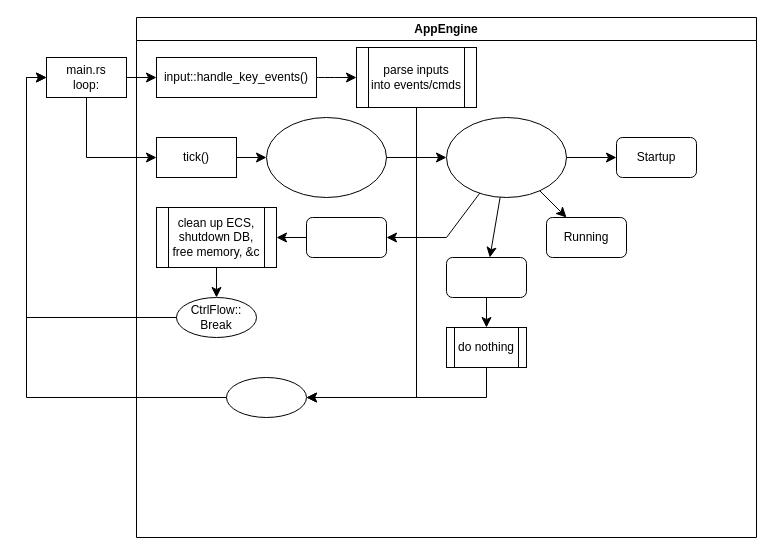
The diagram is 774 pixels wide and 555 high, and some of its shapes have lost their labels. Here are the shapes that lost their labels. From the top down, the centre of each, then its label:
At point (326, 157): "handle mode changes".
At point (506, 157): "dispatch based on engine mode:".
At point (346, 237): "Shutdown".
At point (486, 277): "Standby".
At point (266, 397): "CtrlFlow:: Continue".
